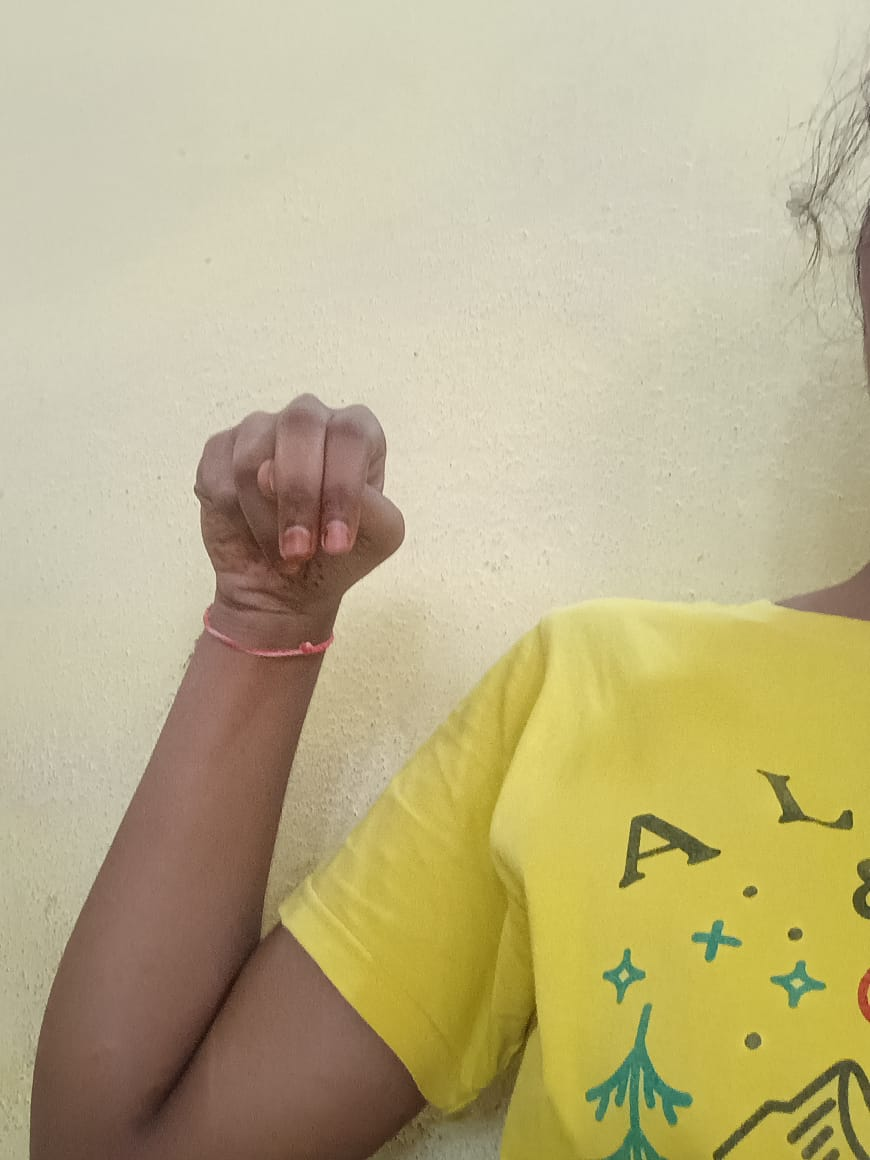N: (192, 393, 404, 635)
